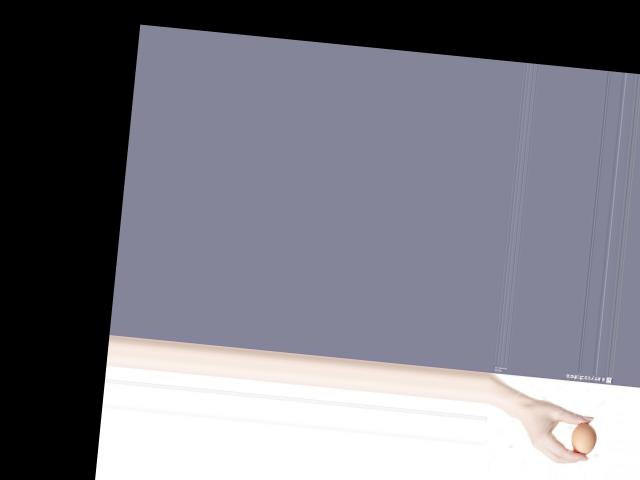egg: (568, 421, 597, 455)
